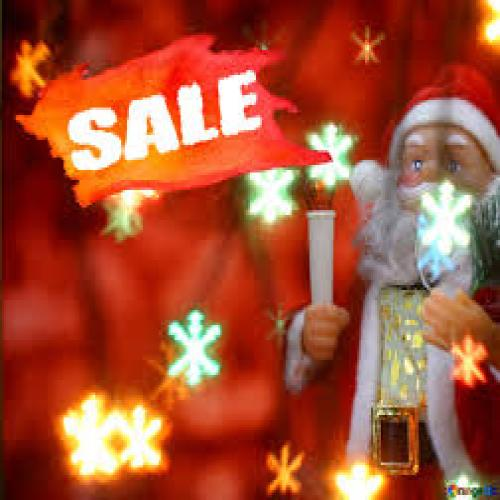Santa: (283, 66, 500, 500)
